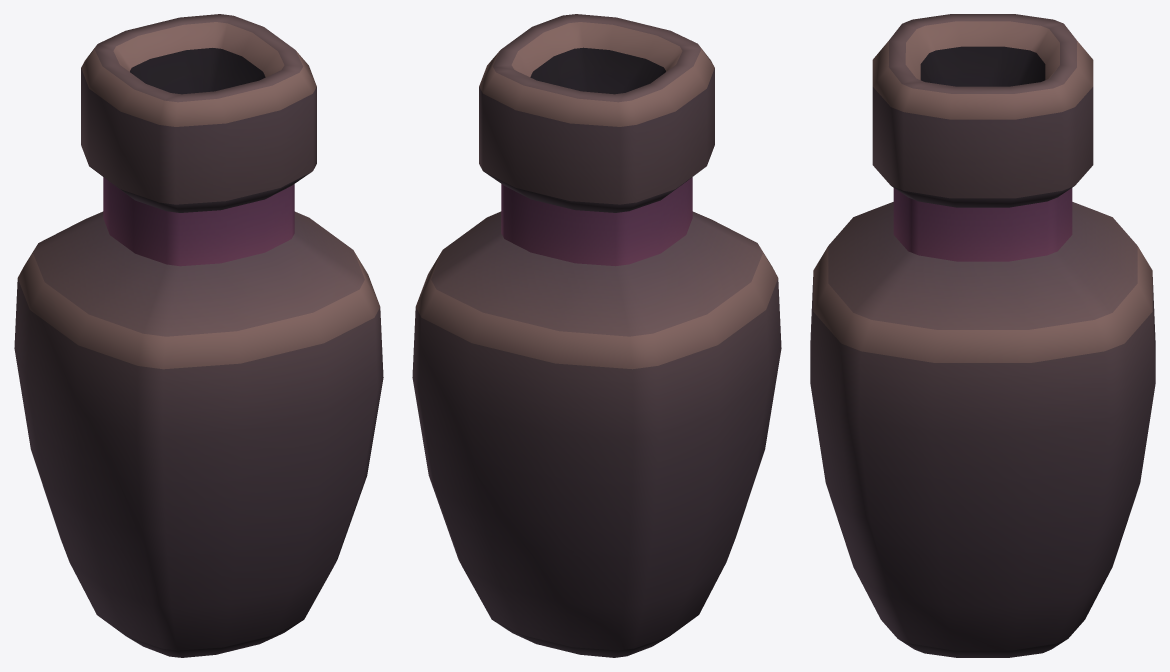
Rendered from pot_3.fbx.
The picture shows the model from 3 angles, left to right: view 1: azimuth 30°, elevation 25°; view 2: azimuth 150°, elevation 25°; view 3: azimuth 270°, elevation 25°; orthographic projection.
Visible parts, largest first — view 1: pot_3; view 2: pot_3; view 3: pot_3.
Part boxes in pixels (x1,y1,x2,y2): pot_3: [14, 14, 383, 657]; pot_3: [412, 14, 781, 657]; pot_3: [810, 14, 1155, 657].
Size of the model in its own units: 66.73 by 125 by 66.66.
